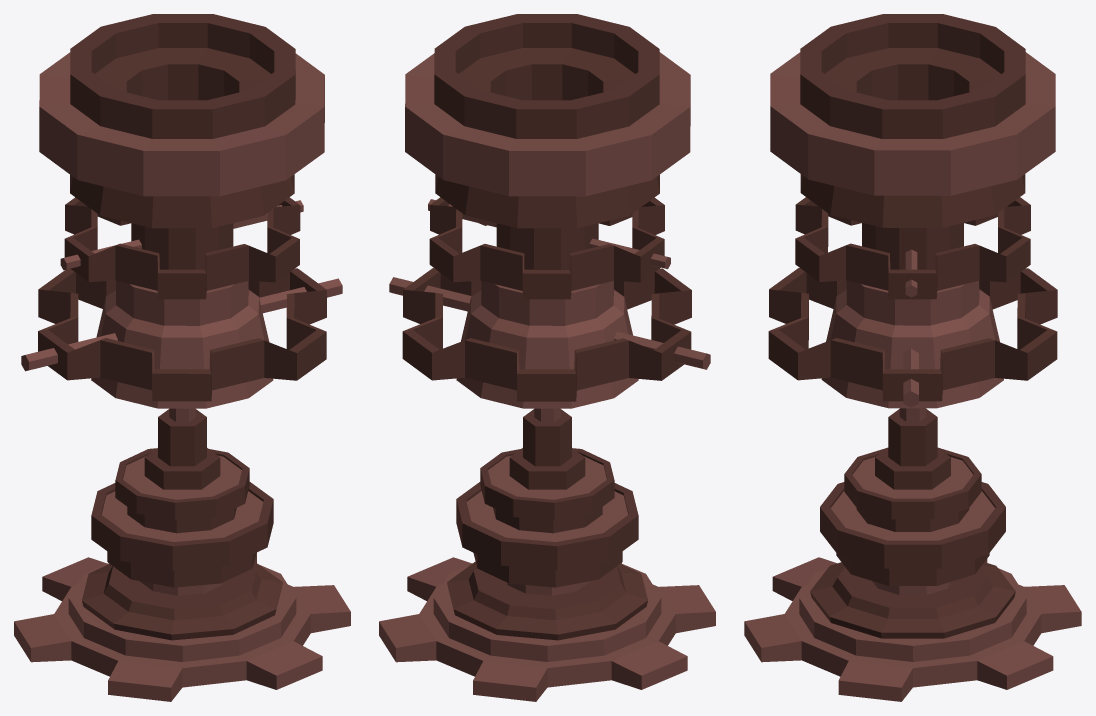
File: upwards-3-ed37539352.glb
3 renders of one model, left to right at view 1: azimuth 30°, elevation 25°; view 2: azimuth 150°, elevation 25°; view 3: azimuth 270°, elevation 25°, orthographic.
Visible parts, largest first — view 1: Upwards_3_.obj; view 2: Upwards_3_.obj; view 3: Upwards_3_.obj.
Part boxes in pixels (bbox=[...]): Upwards_3_.obj: bbox=[14, 14, 350, 701]; Upwards_3_.obj: bbox=[379, 14, 715, 701]; Upwards_3_.obj: bbox=[744, 14, 1081, 701].
Bounding box in the file's own units: 1.48 × 2.58 × 1.38.
